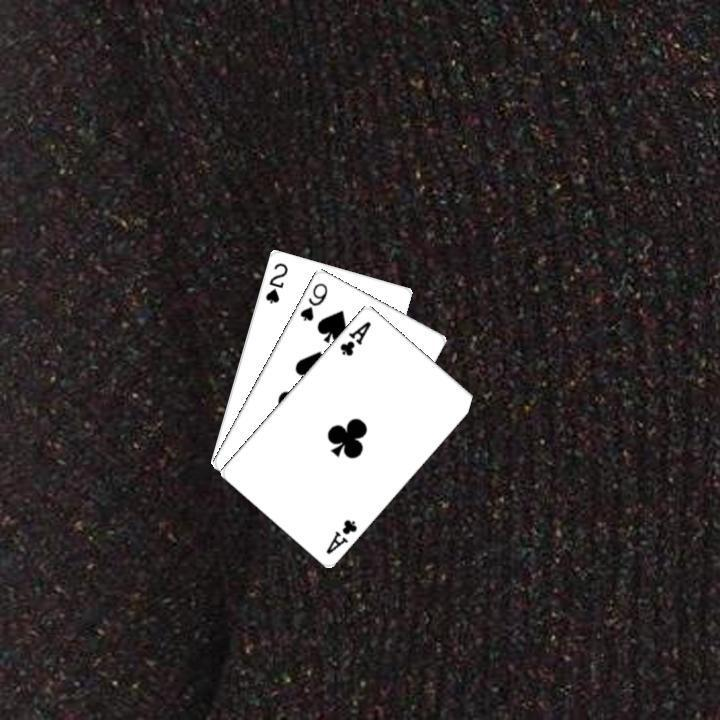2: (261, 258, 290, 306)
9: (295, 278, 329, 323)
A: (335, 316, 373, 358), (321, 514, 359, 556)
